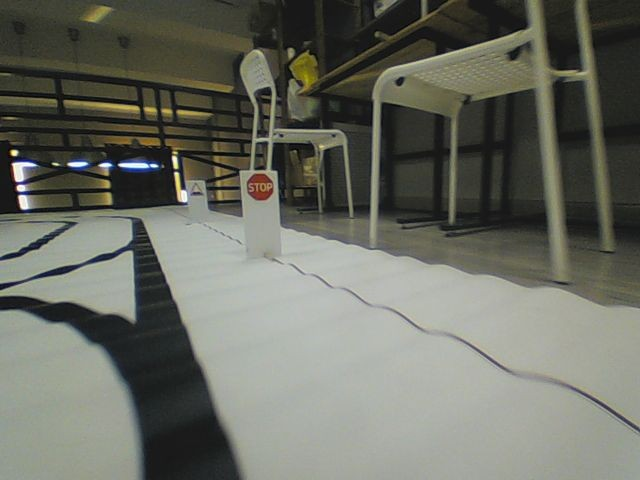Nerov: (189, 181, 204, 197)
Stop: (245, 172, 274, 201)
